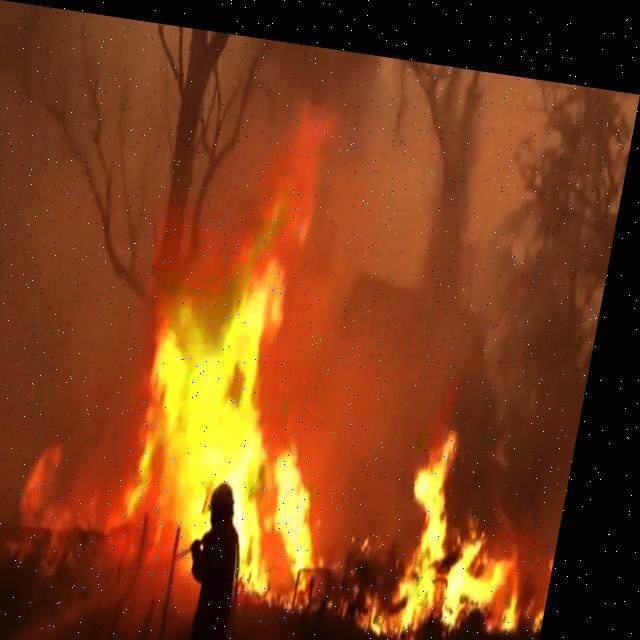Fire: (113, 71, 405, 603), (385, 408, 565, 638), (34, 424, 130, 534)
